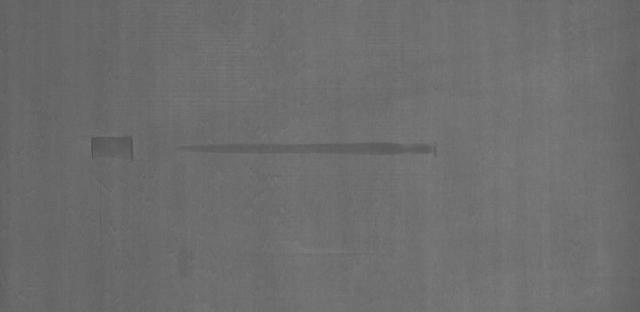rolled_pit: (84, 124, 142, 168)
